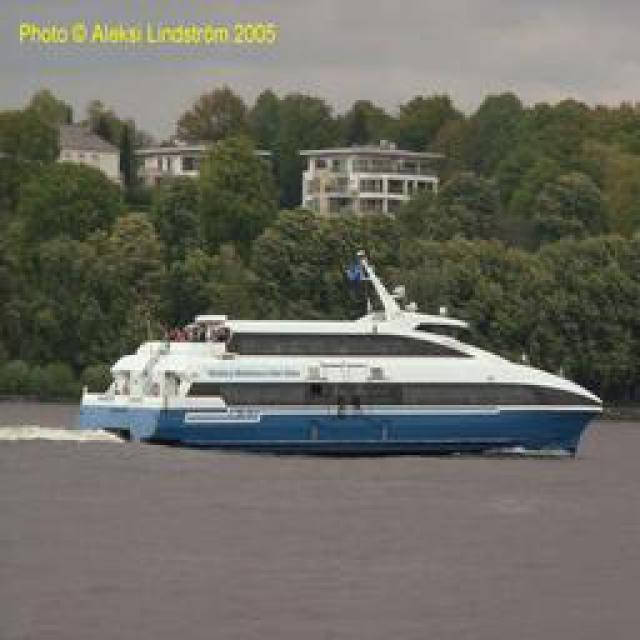Ship: (81, 256, 601, 449)
